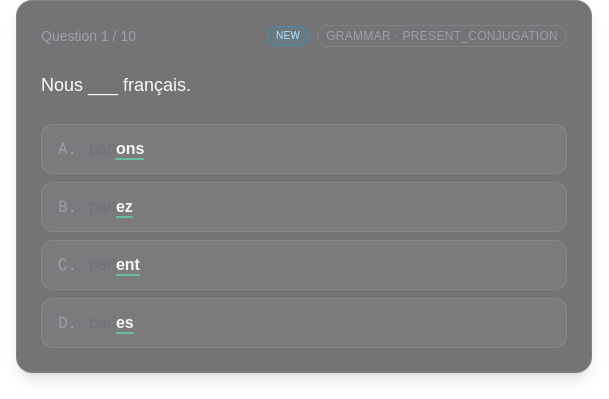
Test case: QuestionCard › on a wrong pick, submits and shows the explanation with Incorrect header
Click the button "B.parlez" at [63, 207], box [41,182,567,232]
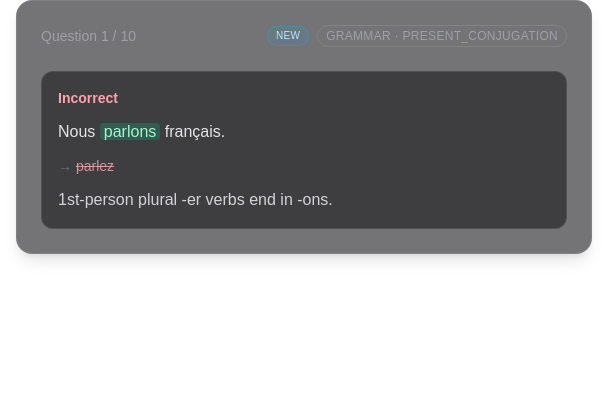
Check: the text "Incorrect" is shown, box [58,88,118,108]
